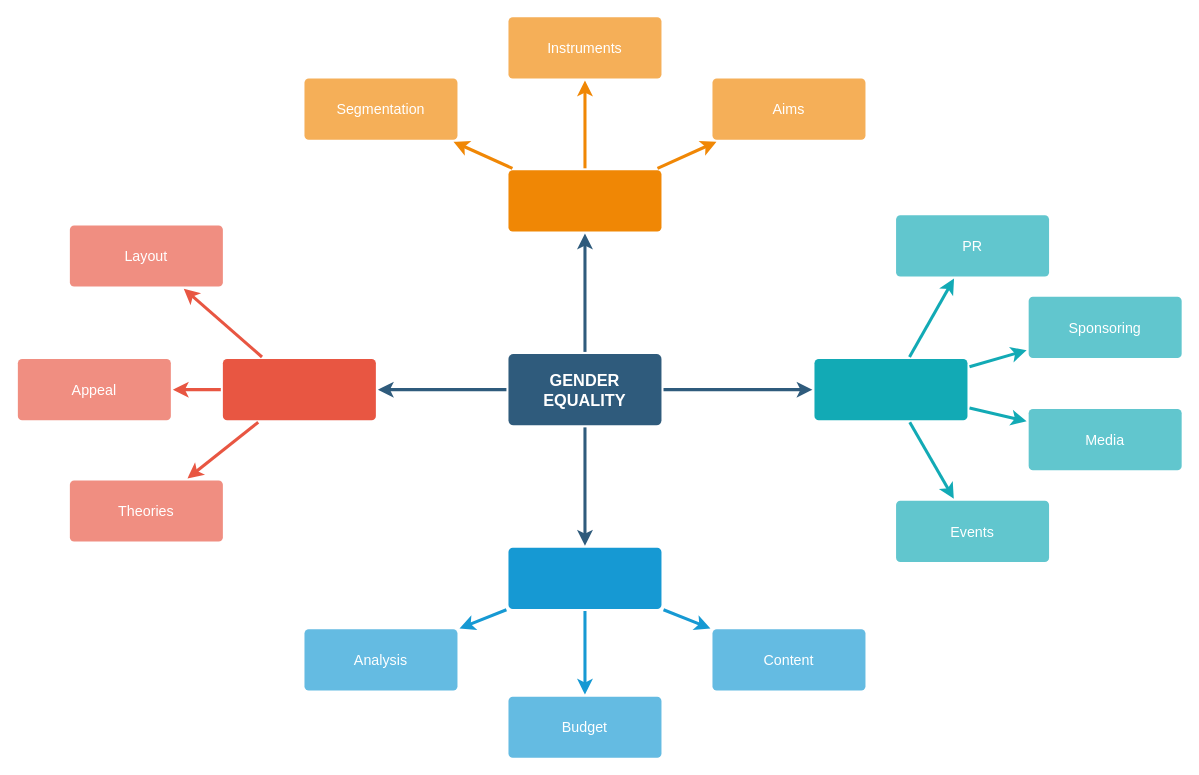
Some shapes in this 1199 by 775 pixel diagram are drawn without their labels. Each missing label, with the centre of its shape:
Communication: [890,389]
Embassy: [298,389]
Marketing: [584,200]
Organization: [584,577]
